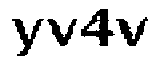4: (79, 7, 116, 48)
v: (115, 16, 149, 49), (46, 14, 77, 48)
y: (9, 16, 46, 60)
